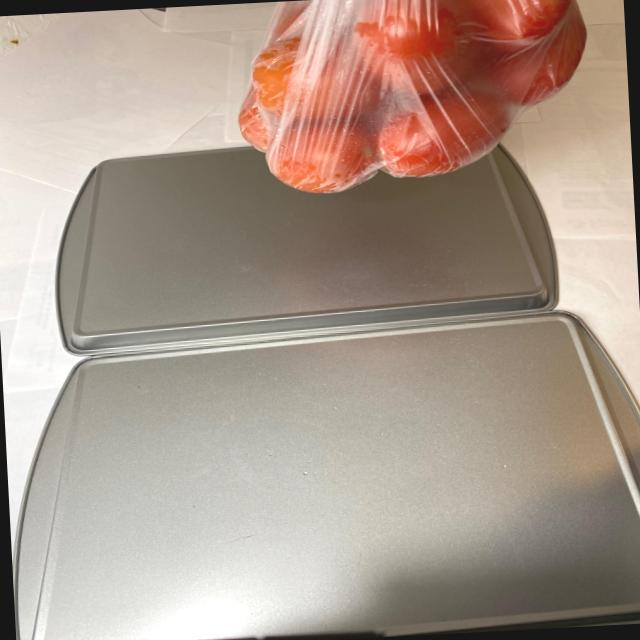tomato: (232, 0, 597, 201)
